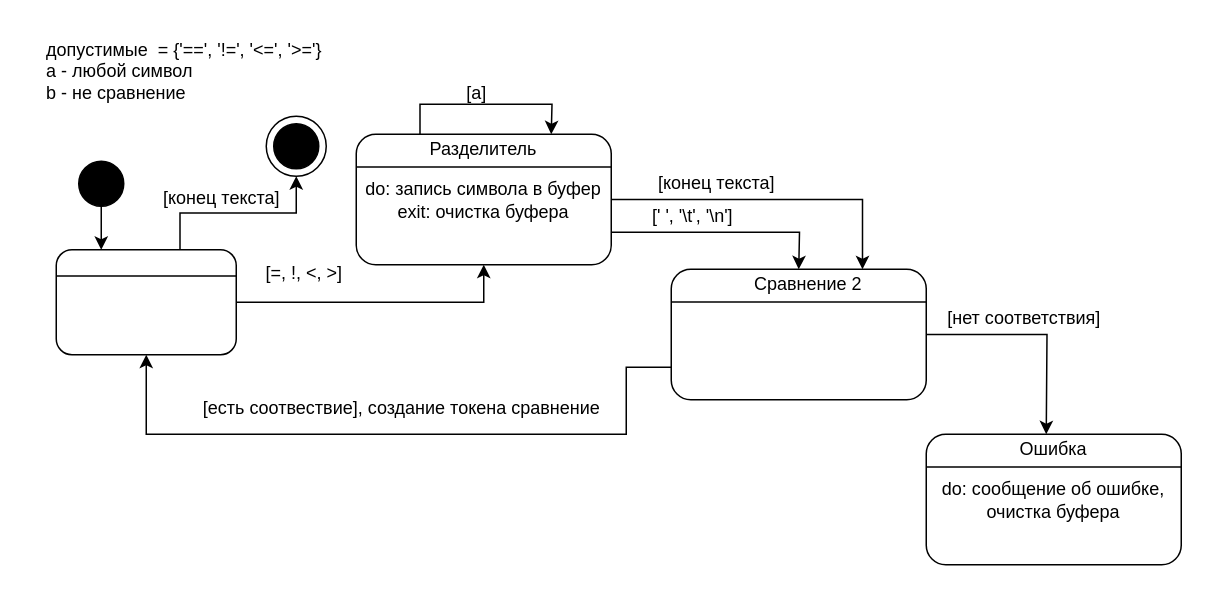
This 1209x591 diagram has some shape labels left out. Here are the shapes that lost their labels. From the top down, the box of each, then its label:
(55, 248, 236, 355): Начало
(670, 268, 926, 400): do: сравнение буфера со список допустимых комбинаций
